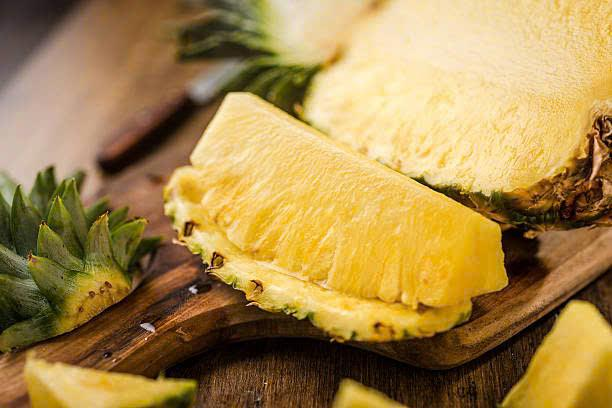pineapple: (192, 148, 505, 370), (305, 0, 612, 154)
